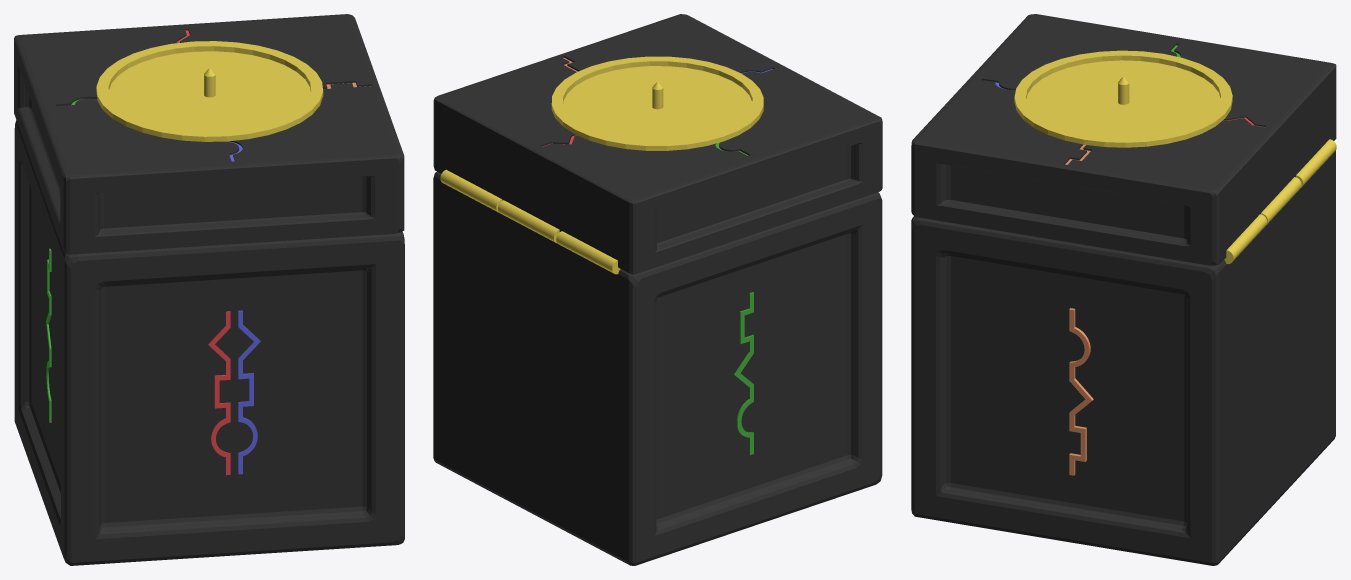
Rendered from puzzleBox.glb.
The picture shows the model from 3 angles, left to right: view 1: azimuth 30°, elevation 25°; view 2: azimuth 150°, elevation 25°; view 3: azimuth 270°, elevation 25°; orthographic projection. The views are drawn at different scales.
Visible parts, largest first — view 1: Cube.045, lid, bottom blocker, rim, Curve.021, Curve.024, Curve.028; view 2: Cube.045, lid, bottom blocker, rim, Curve.028, Cylinder.049, hingle, Cylinder.050; view 3: Cube.045, lid, bottom blocker, rim, Curve.027, Cylinder.050, Cylinder.049, hingle.
Boxes of the visible parts, x1,y1,x2,y2 form: Cube.045: (14, 120, 404, 565); lid: (14, 14, 404, 254); bottom blocker: (109, 51, 310, 131); rim: (96, 41, 323, 141); Curve.021: (208, 311, 230, 475); Curve.024: (238, 310, 260, 474); Curve.028: (46, 248, 51, 422); Cube.045: (433, 172, 882, 565); lid: (433, 14, 882, 274); bottom blocker: (563, 66, 752, 141); rim: (551, 56, 763, 150); Curve.028: (734, 292, 753, 454); Cylinder.049: (556, 231, 620, 274); hingle: (497, 200, 559, 243); Cylinder.050: (440, 169, 502, 212); Cube.045: (911, 150, 1335, 565); lid: (911, 14, 1336, 265); bottom blocker: (1026, 60, 1220, 137); rim: (1014, 50, 1232, 147); Curve.027: (1069, 308, 1093, 475); Cylinder.050: (1224, 214, 1267, 263); Cylinder.049: (1296, 139, 1336, 187); hingle: (1261, 177, 1301, 224).
Size of the model in its own units: 0.1336 by 0.139 by 0.1336.
